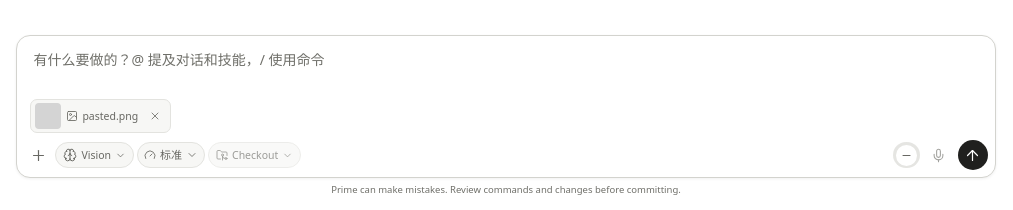
Test: Composer image ingestion › shows an actionable rejection for a known text-only model
Check: the element with class "composer-attachment" reads "pasted.png", box [82,109,138,123]
Click the button named "发送": {"x": 973, "y": 155} [958,140,988,170]
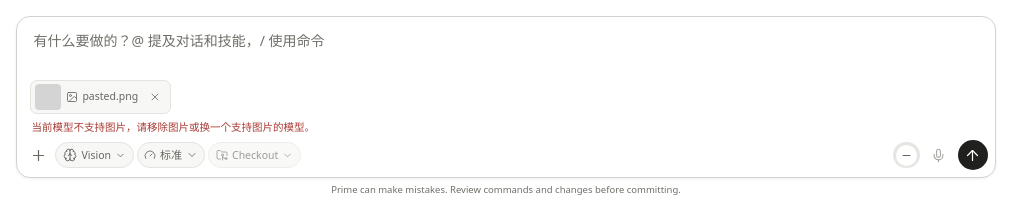
Check: the message "当前模型不支持图片，请移除图片或换一个支持图片的模型。" is shown, box [31,120,315,134]
